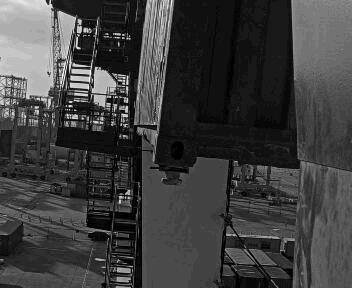twist_lock_1: (153, 162, 194, 192)
